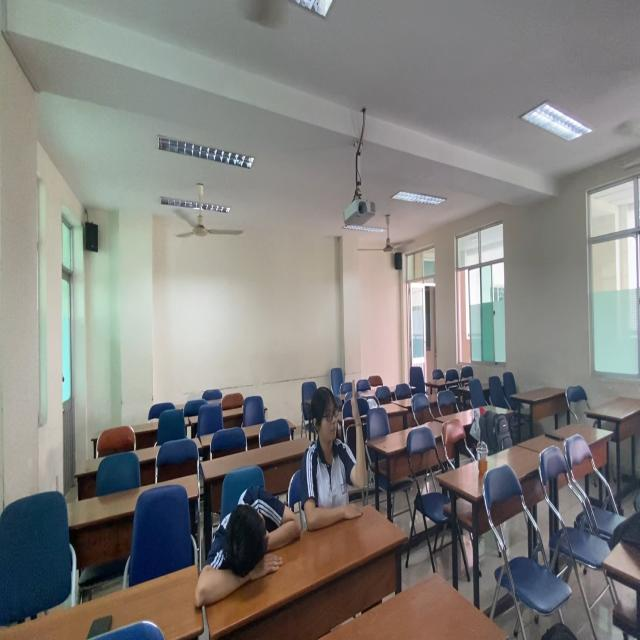raise_hand: (306, 375, 373, 527)
sleep: (192, 480, 304, 612)
